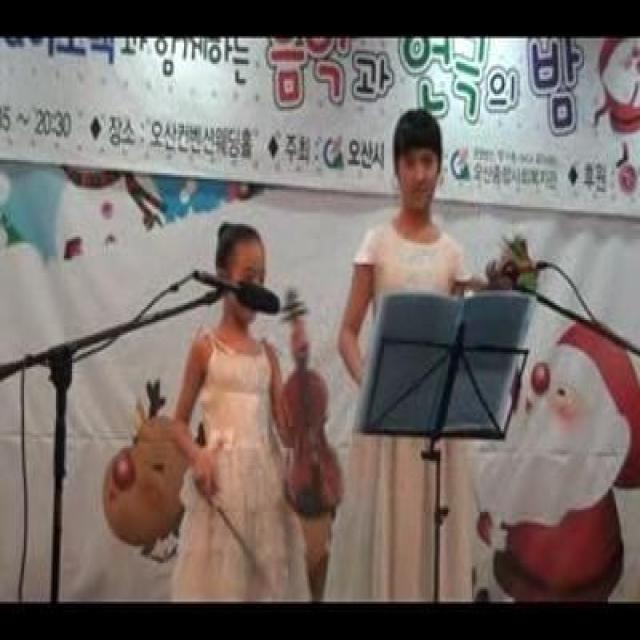violin: (275, 288, 347, 514)
